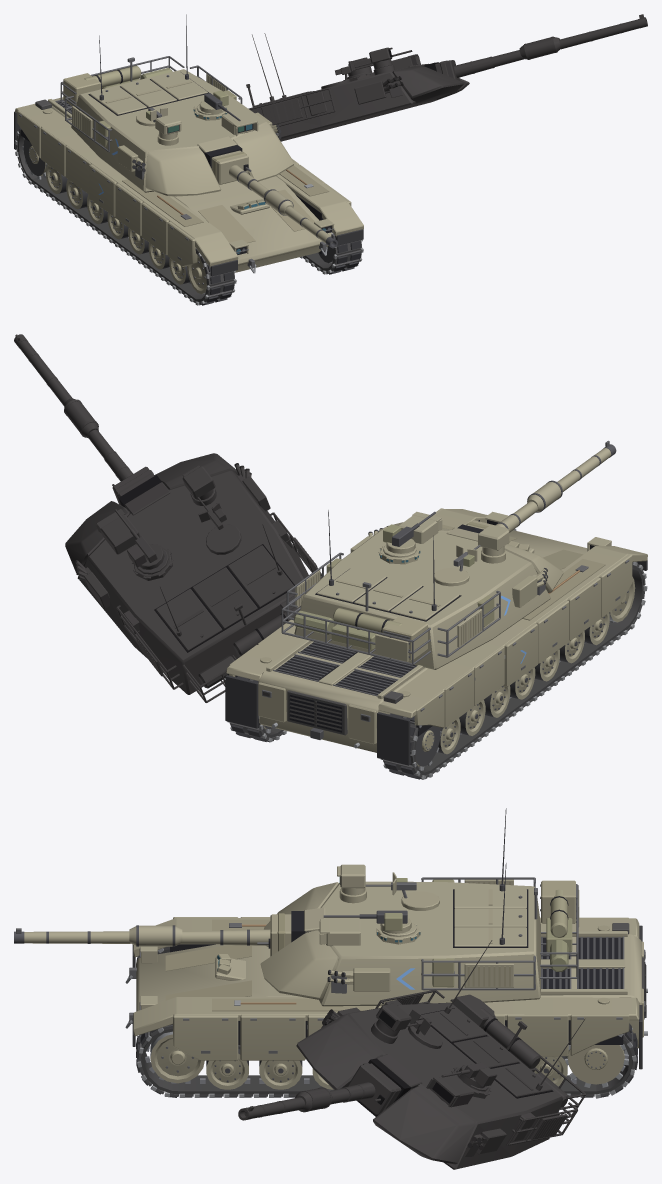
The model's file is tank__m1a2s_abrams.glb.
3 renders of one model, top to bottom at view 1: azimuth 30°, elevation 25°; view 2: azimuth 150°, elevation 25°; view 3: azimuth 270°, elevation 25°, orthographic. The views are drawn at different scales.
Parts seen in each view (by area): view 1: Hull_Mesh, Turret_Mesh, Wreck, Track_L_Mesh, Gun_Mesh, Track_R_Mesh, CITV_Mesh, Gunner_Sight_Mesh, Commander_Weapon_Station_Mesh, Sprocket_L_Mesh, Idler_L_Mesh, Wheel_L0_Mesh (+1 smaller); view 2: Wreck, Hull_Mesh, Turret_Mesh, Track_L_Mesh, Gun_Mesh, Hatch_Loader_Mesh, CITV_Mesh, Commander_Weapon_Station_Mesh, Sprocket_L_Mesh, Gunner_Sight_Mesh, Track_R_Mesh, Wheel_L1_Mesh; view 3: Wreck, Hull_Mesh, Turret_Mesh, Track_R_Mesh, Gun_Mesh, Sprocket_R_Mesh, Idler_R_Mesh, Wheel_R6_Mesh, Wheel_R5_Mesh, Gunner_Sight_Mesh, Hatch_Loader_Mesh, CITV_Mesh (+3 smaller).
Boxes of the visible parts, x1,y1,x2,y2 form: Hull_Mesh: (14, 77, 363, 276); Turret_Mesh: (60, 56, 293, 196); Wreck: (246, 14, 647, 141); Track_L_Mesh: (14, 127, 236, 305); Gun_Mesh: (211, 150, 337, 248); Track_R_Mesh: (300, 232, 363, 274); CITV_Mesh: (155, 114, 181, 145); Gunner_Sight_Mesh: (221, 110, 258, 136); Commander_Weapon_Station_Mesh: (199, 90, 240, 121); Sprocket_L_Mesh: (22, 137, 46, 179); Idler_L_Mesh: (187, 255, 206, 294); Wheel_L0_Mesh: (45, 164, 67, 193); Wreck: (14, 334, 321, 702); Hull_Mesh: (225, 508, 647, 765); Turret_Mesh: (281, 522, 563, 669); Track_L_Mesh: (380, 561, 647, 779); Gun_Mesh: (466, 440, 616, 543); Hatch_Loader_Mesh: (434, 545, 480, 586); CITV_Mesh: (478, 525, 509, 563); Commander_Weapon_Station_Mesh: (383, 511, 435, 553); Sprocket_L_Mesh: (415, 726, 441, 770); Gunner_Sight_Mesh: (399, 511, 442, 543); Track_R_Mesh: (227, 676, 286, 742); Wheel_L1_Mesh: (459, 700, 485, 735); Wreck: (238, 940, 586, 1169); Hull_Mesh: (125, 917, 647, 1069); Turret_Mesh: (260, 877, 579, 1006); Track_R_Mesh: (136, 1023, 637, 1098); Gun_Mesh: (14, 913, 291, 956); Sprocket_R_Mesh: (564, 1044, 628, 1087); Idler_R_Mesh: (150, 1031, 204, 1083); Wheel_R6_Mesh: (206, 1045, 248, 1089); Wheel_R5_Mesh: (259, 1060, 302, 1089); Gunner_Sight_Mesh: (319, 919, 360, 946); Hatch_Loader_Mesh: (365, 872, 439, 910); CITV_Mesh: (337, 864, 366, 903).
Size of what is drawn, in the model's own units: 11.14 by 3.67 by 9.79.
